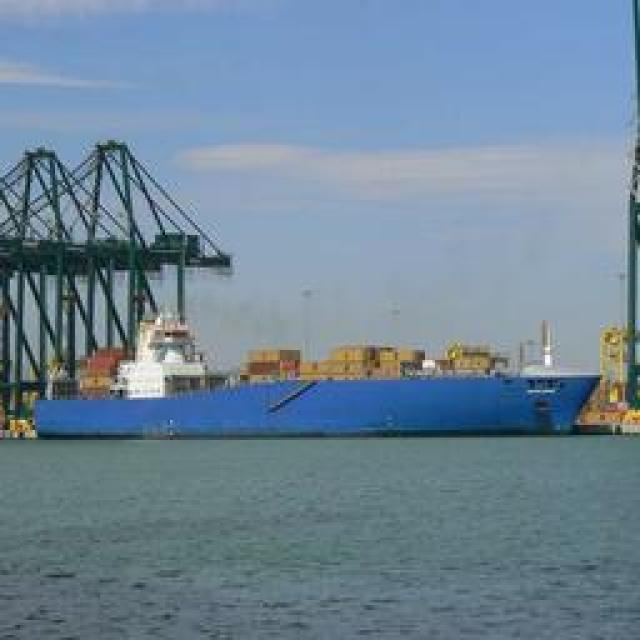ship2: (34, 311, 605, 440)
